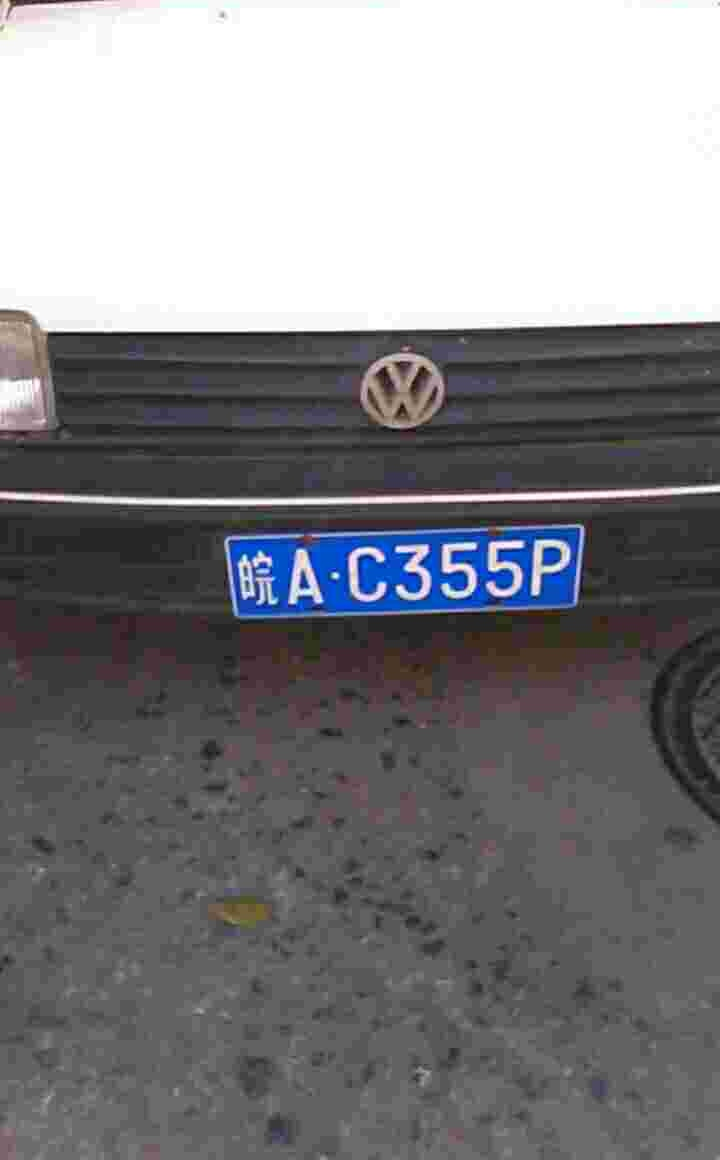license_plate: (220, 521, 597, 617)
